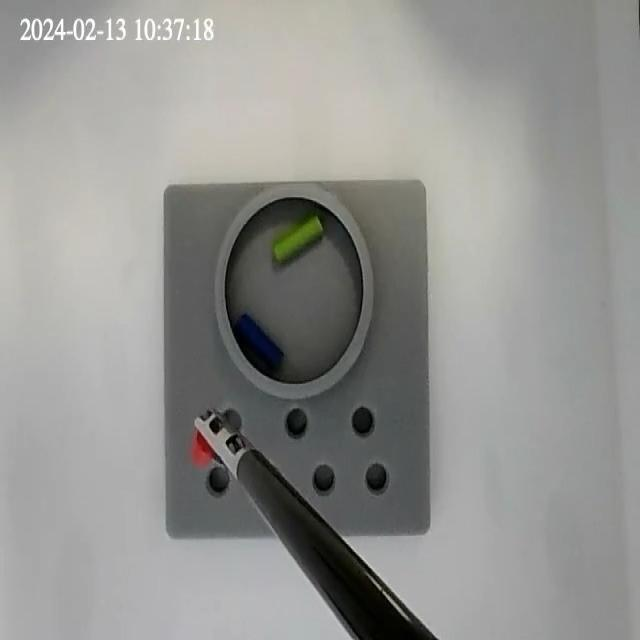EmptyHole: (350, 401, 377, 437), (205, 462, 232, 496), (256, 464, 282, 499), (284, 402, 308, 439), (363, 462, 389, 494), (312, 461, 335, 495), (220, 406, 243, 436)
